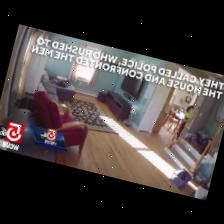person: (175, 121, 185, 139)
